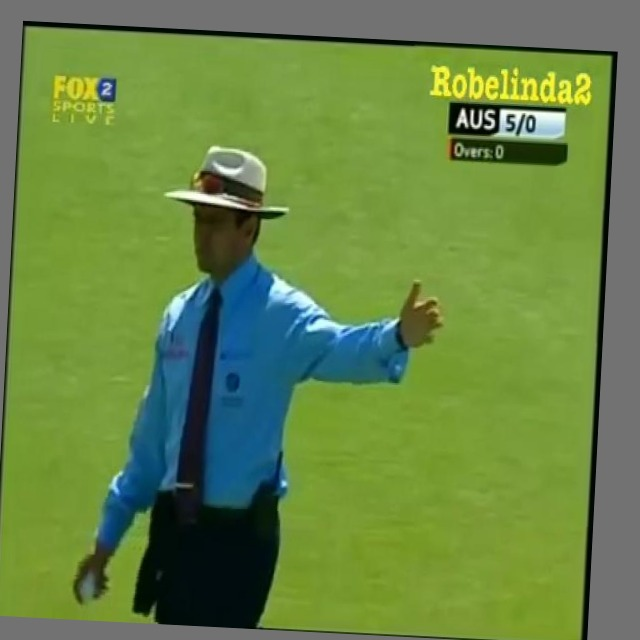No_Ball: (67, 129, 459, 638)
